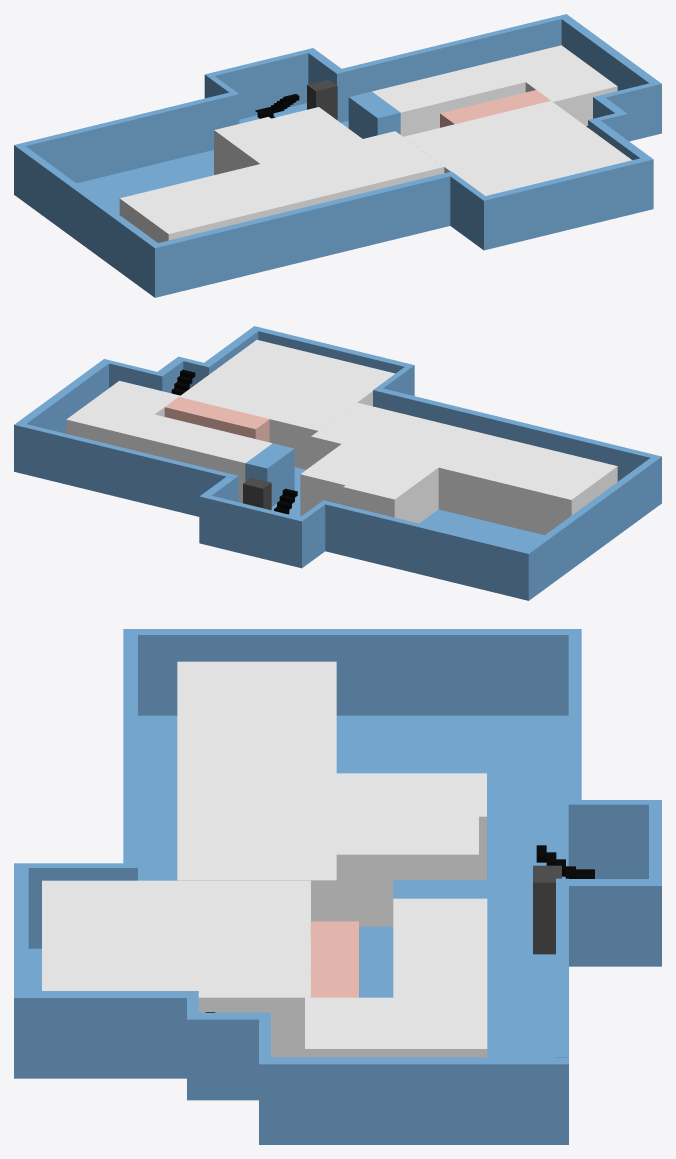
3 views of the same model, one above another, from view 1: azimuth 30°, elevation 25°; view 2: azimuth 150°, elevation 25°; view 3: azimuth 270°, elevation 25° (orthographic). The views are drawn at different scales.
Parts seen in each view (by area): view 1: object, 第4A閲覧室, 書庫, 第4B閲覧室, 第4C閲覧室, 男子トイレ_図書館生田分館_4_1, エレベーター_図書館生田分館_4_1, 女子トイレ_図書館生田分館_4_1, 階段__図書館生田分館_4_2; view 2: object, 第4A閲覧室, 書庫, 第4B閲覧室, 第4C閲覧室, 男子トイレ_図書館生田分館_4_1, 女子トイレ_図書館生田分館_4_1, エレベーター_図書館生田分館_4_1; view 3: object, 第4A閲覧室, 書庫, 第4B閲覧室, 第4C閲覧室, 男子トイレ_図書館生田分館_4_1, エレベーター_図書館生田分館_4_1, 女子トイレ_図書館生田分館_4_1, 階段__図書館生田分館_4_2.
Boxes of the visible parts, x1=… form: object: x1=14, y1=14, x2=661, y2=297; 第4A閲覧室: x1=119, y1=131, x2=444, y2=242; 書庫: x1=403, y1=101, x2=631, y2=195; 第4B閲覧室: x1=372, y1=45, x2=617, y2=136; 第4C閲覧室: x1=214, y1=107, x2=362, y2=174; 男子トイレ_図書館生田分館_4_1: x1=440, y1=99, x2=512, y2=127; エレベーター_図書館生田分館_4_1: x1=307, y1=79, x2=337, y2=120; 女子トイレ_図書館生田分館_4_1: x1=499, y1=90, x2=550, y2=109; 階段__図書館生田分館_4_2: x1=255, y1=94, x2=299, y2=118; object: x1=14, y1=326, x2=661, y2=600; 第4A閲覧室: x1=311, y1=402, x2=617, y2=535; 書庫: x1=179, y1=340, x2=395, y2=469; 第4B閲覧室: x1=66, y1=381, x2=272, y2=503; 第4C閲覧室: x1=300, y1=444, x2=438, y2=523; 男子トイレ_図書館生田分館_4_1: x1=200, y1=405, x2=269, y2=442; 女子トイレ_図書館生田分館_4_1: x1=164, y1=397, x2=213, y2=425; エレベーター_図書館生田分館_4_1: x1=243, y1=477, x2=271, y2=510; object: x1=14, y1=629, x2=661, y2=1144; 第4A閲覧室: x1=177, y1=661, x2=336, y2=921; 書庫: x1=42, y1=880, x2=310, y2=1057; 第4B閲覧室: x1=305, y1=898, x2=487, y2=1057; 第4C閲覧室: x1=336, y1=773, x2=486, y2=926; 男子トイレ_図書館生田分館_4_1: x1=310, y1=921, x2=358, y2=967; エレベーター_図書館生田分館_4_1: x1=533, y1=865, x2=561, y2=954; 女子トイレ_図書館生田分館_4_1: x1=310, y1=968, x2=358, y2=997; 階段__図書館生田分館_4_2: x1=536, y1=845, x2=594, y2=878.
Bounding box in the file's own units: 2.33 × 0.2048 × 1.46.
